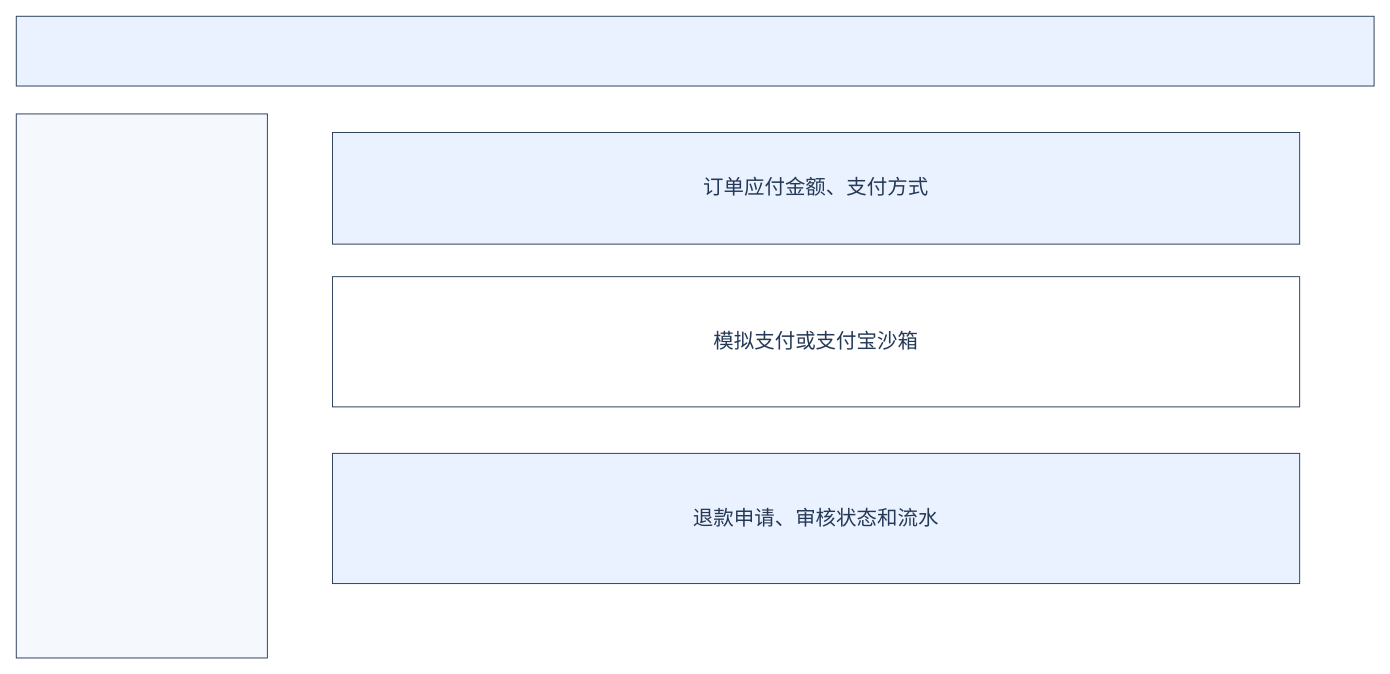
This 1390x674 diagram has some shape labels left out. Each missing label, with the box of its shape:
支付 / 退款: (15, 113, 267, 658)
智慧酒店预订与运营管理系统: (15, 15, 1374, 86)
